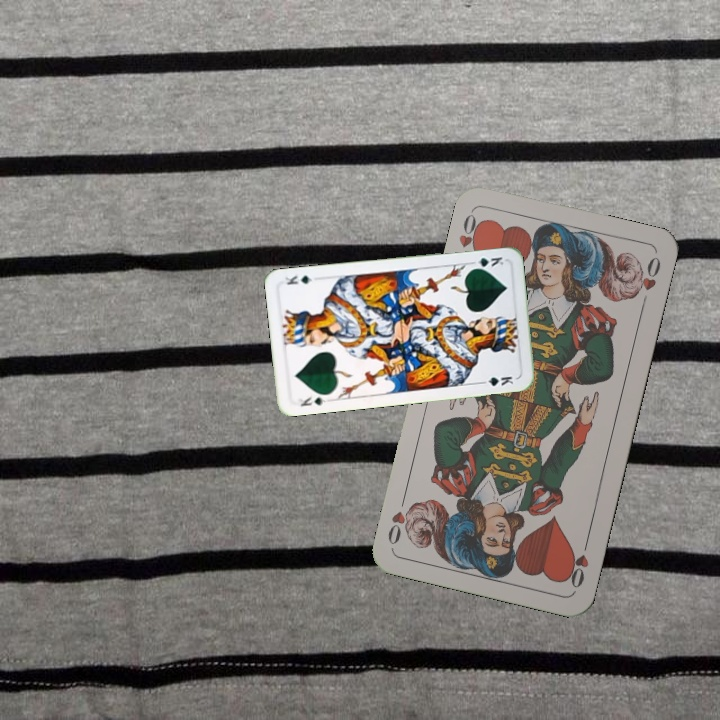GK: (466, 253, 506, 272), (294, 392, 328, 409)
HO: (562, 534, 592, 591), (454, 209, 486, 257)
